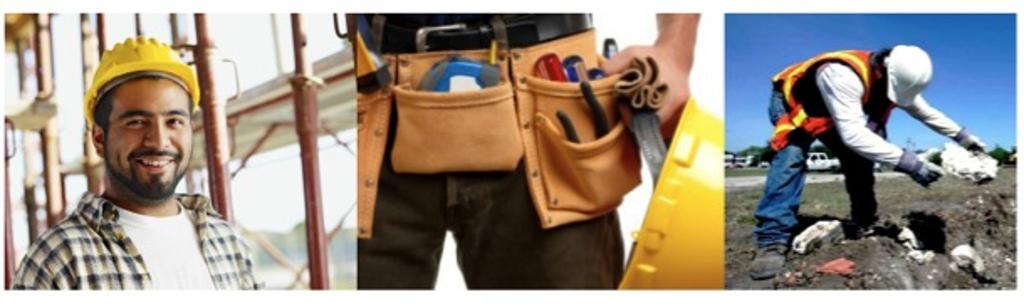face: (106, 74, 190, 190)
